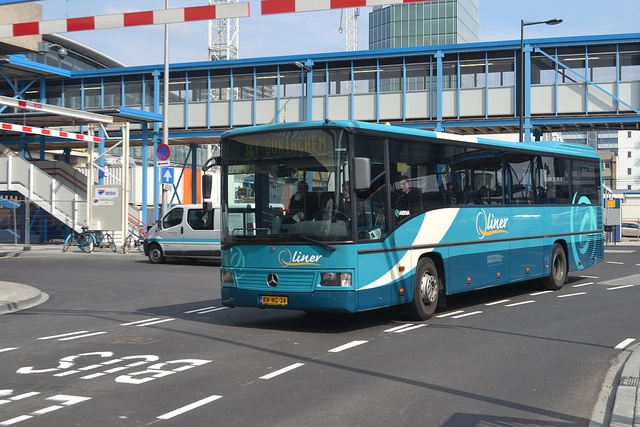non-vehicle: (62, 224, 98, 253), (124, 221, 145, 253), (87, 230, 116, 251)
